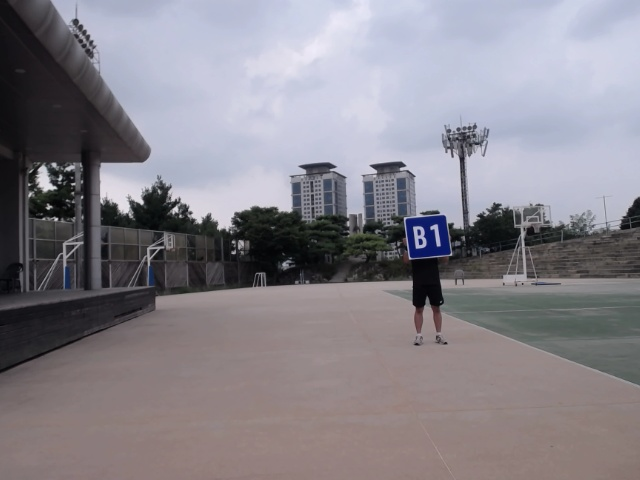delivery_b1: (403, 214, 453, 259)
